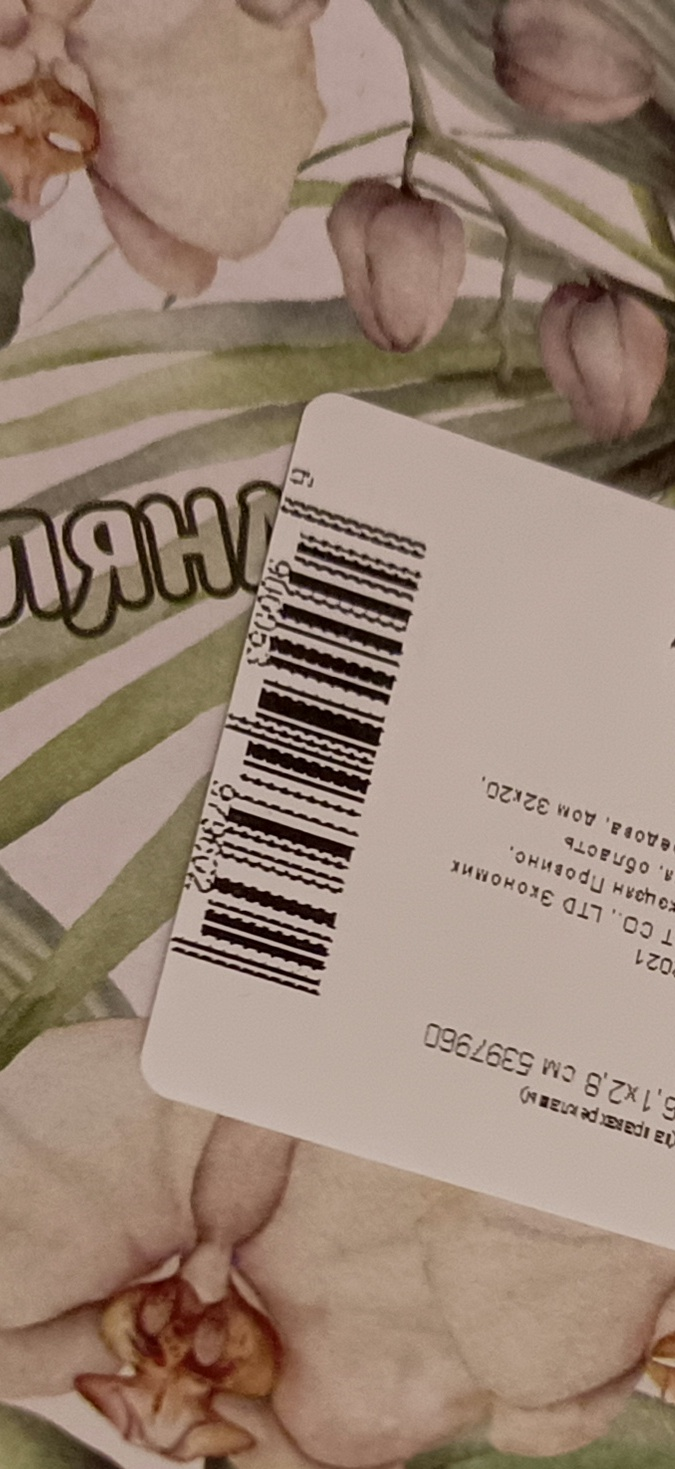1d: (184, 501, 430, 1007)
